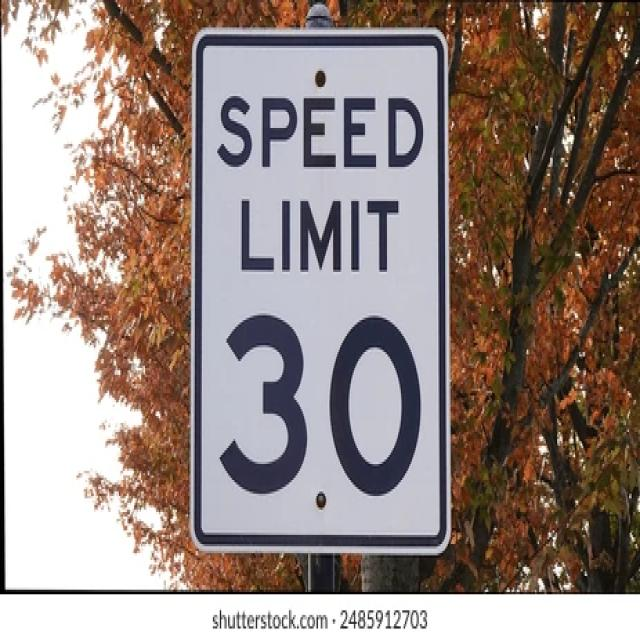Speed Limit Signs: (188, 23, 453, 555)
